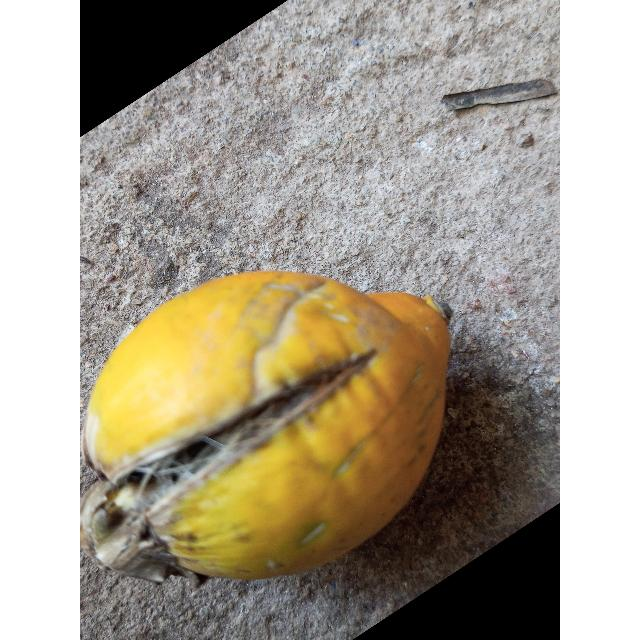damaged: (80, 272, 451, 587)
